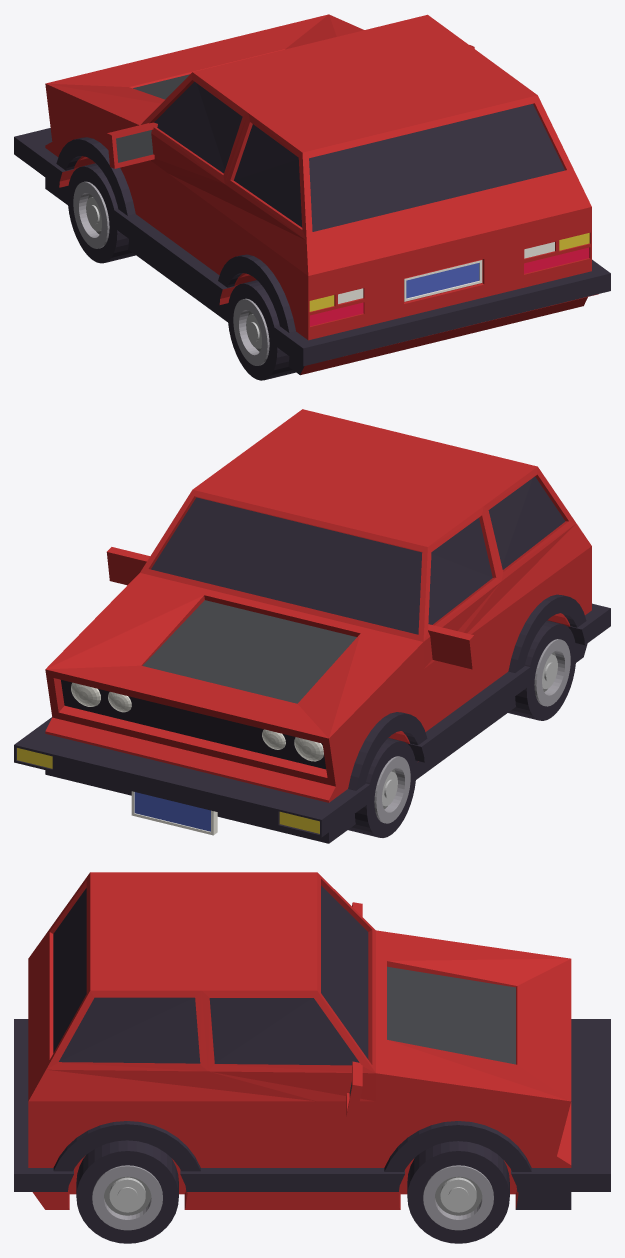
File: jieda.fbx
3 renders of one model, top to bottom at view 1: azimuth 30°, elevation 25°; view 2: azimuth 150°, elevation 25°; view 3: azimuth 270°, elevation 25°, orthographic. The views are drawn at different scales.
Visible parts, largest first — view 1: 立方体_3; view 2: 立方体_3; view 3: 立方体_3.
Part boxes in pixels (bbox=[...]): 立方体_3: bbox=[14, 14, 610, 380]; 立方体_3: bbox=[14, 409, 610, 843]; 立方体_3: bbox=[14, 872, 610, 1243].
Bounding box in the file's own units: 330 × 200 × 456.
